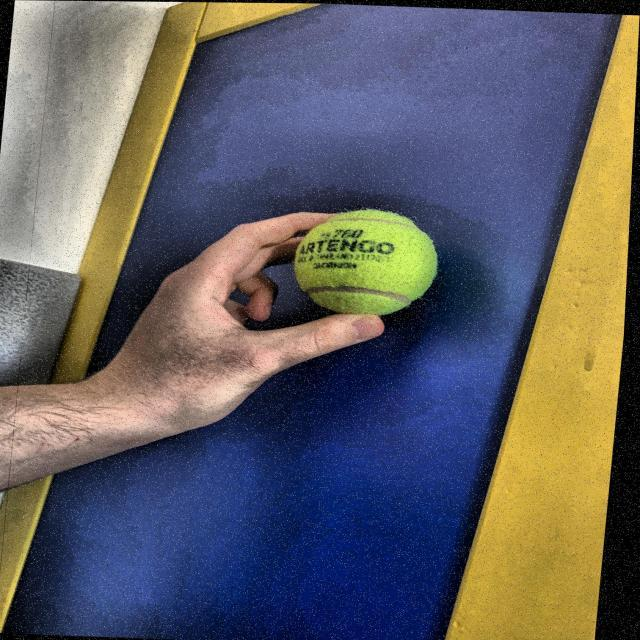tennis-ball: (292, 202, 448, 321)
